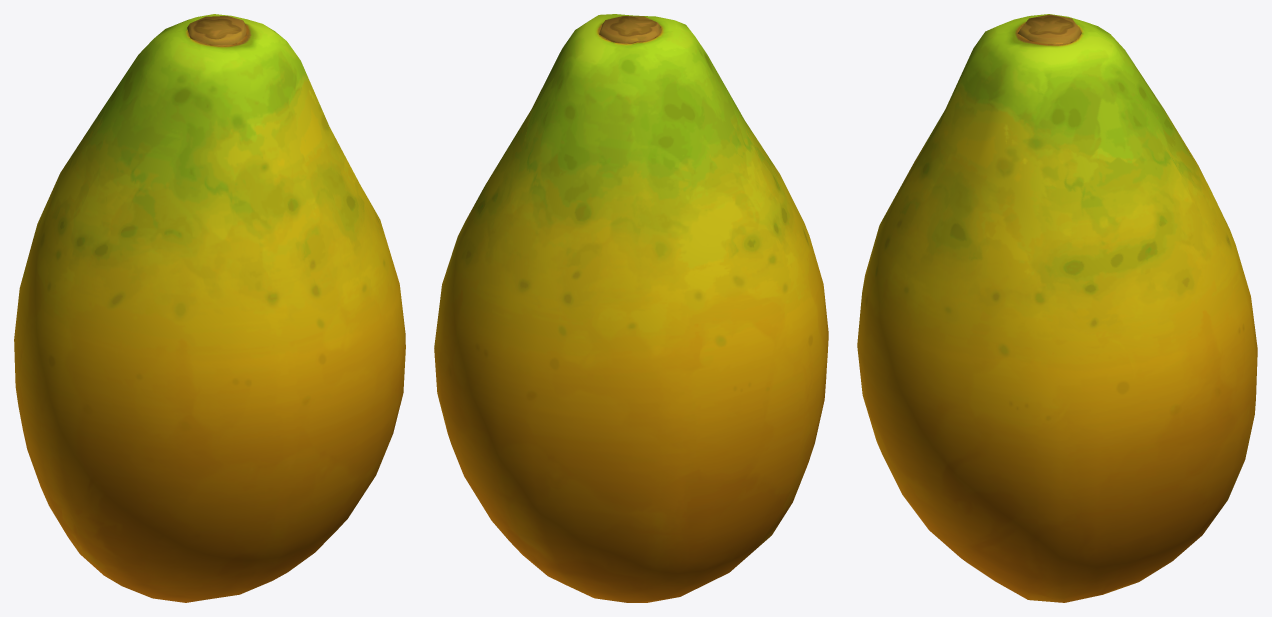
Rendered from SM_Papaya.fbx.
3 renders of one model, left to right at view 1: azimuth 30°, elevation 25°; view 2: azimuth 150°, elevation 25°; view 3: azimuth 270°, elevation 25°, orthographic. The views are drawn at different scales.
Parts seen in each view (by area): view 1: SM_Papaya; view 2: SM_Papaya; view 3: SM_Papaya.
Part boxes in pixels (bbox=[...]): SM_Papaya: bbox=[14, 14, 405, 602]; SM_Papaya: bbox=[434, 14, 828, 602]; SM_Papaya: bbox=[857, 14, 1257, 602].
Bounding box in the file's own units: 14.48 × 22.14 × 14.27.
